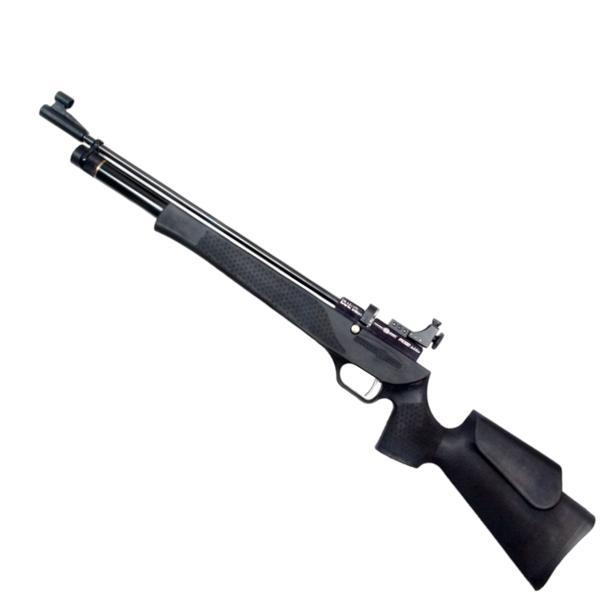Firearm: (34, 66, 604, 597)
